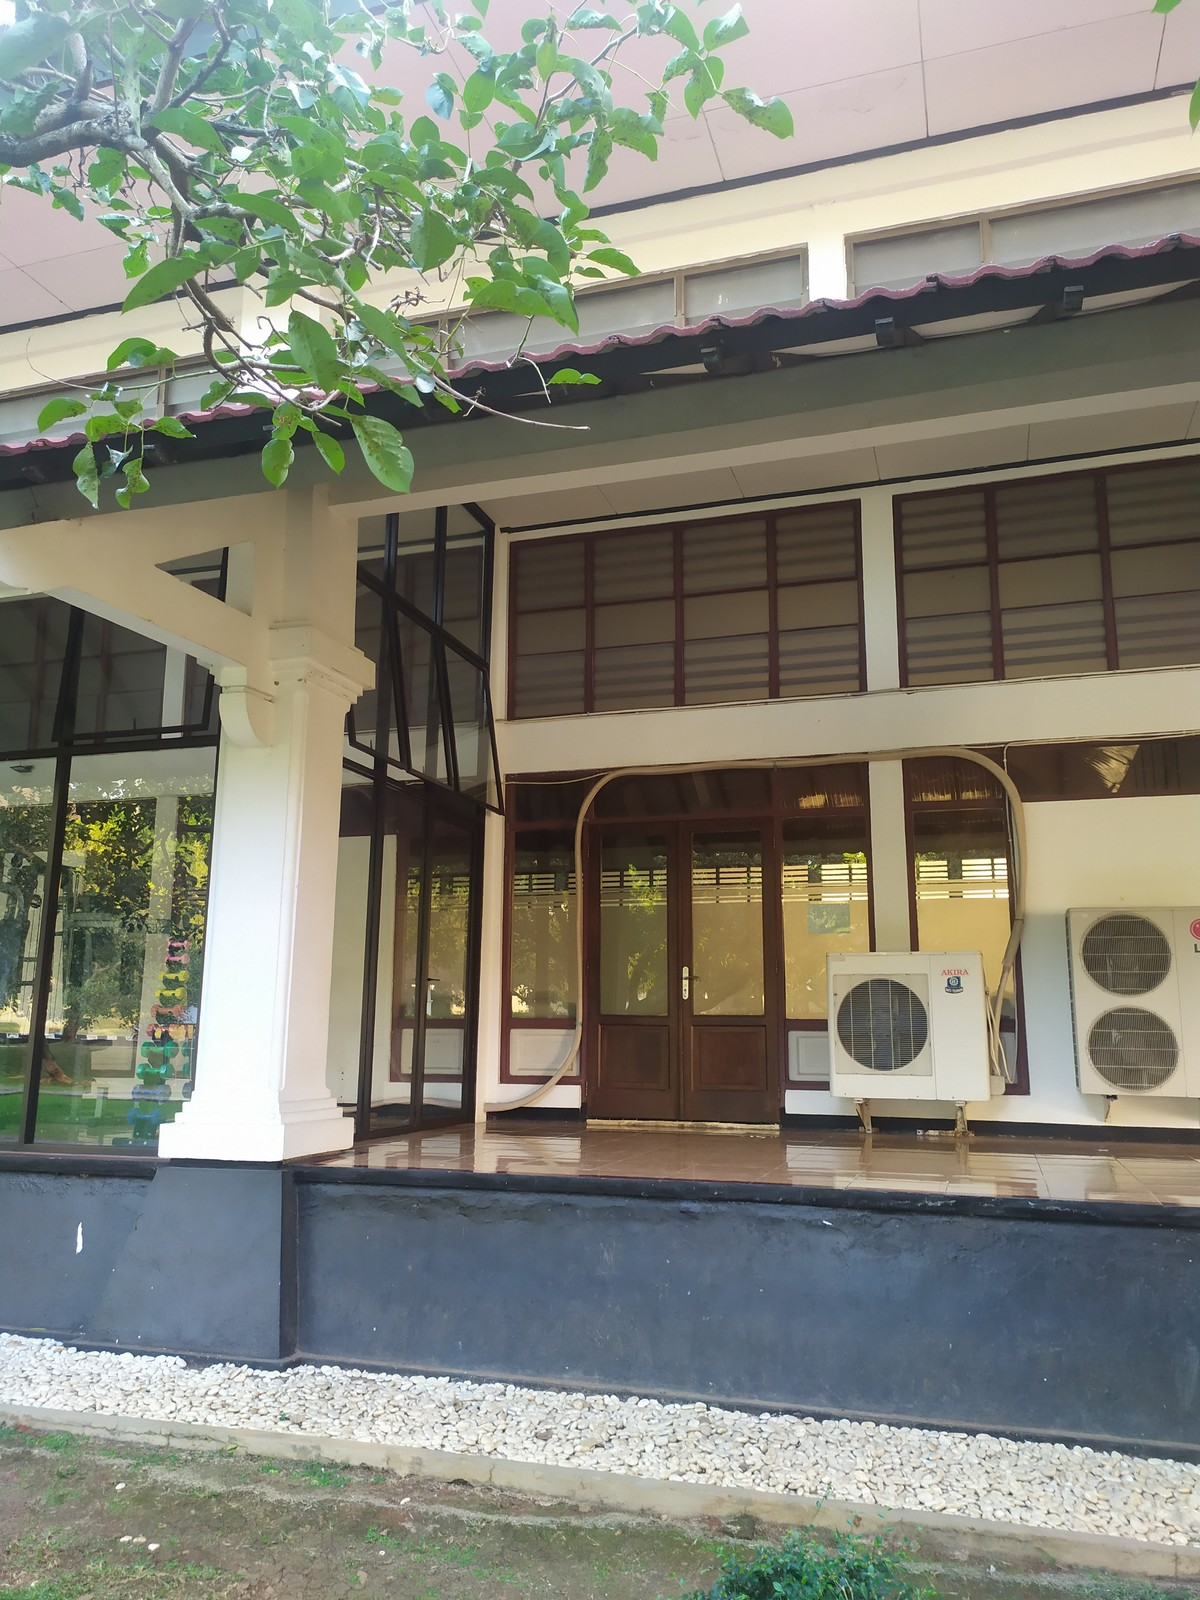concrete column: (187, 675, 350, 1153)
